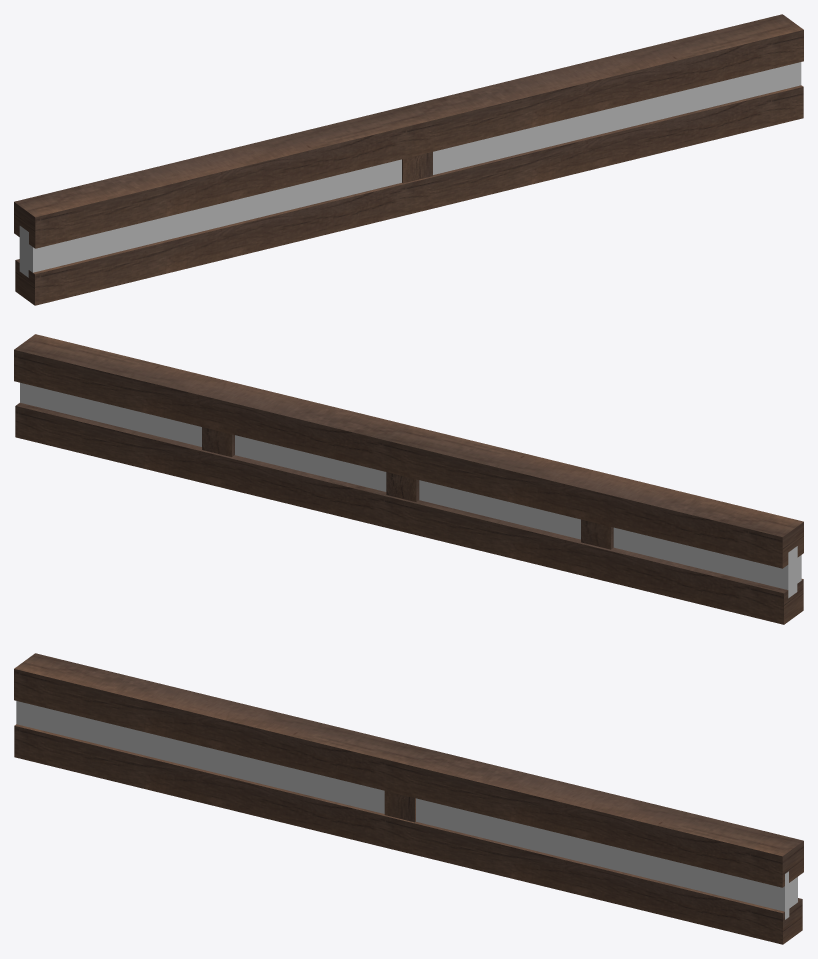
File: yane_frame_2t_1f_6.fbx
The picture shows the model from 3 angles, top to bottom: view 1: azimuth 30°, elevation 25°; view 2: azimuth 150°, elevation 25°; view 3: azimuth 330°, elevation 25°; orthographic projection.
Parts seen in each view (by area): view 1: yane_frame_2t_1f_6; view 2: yane_frame_2t_1f_6; view 3: yane_frame_2t_1f_6.
Boxes of the visible parts, left/top/right/bottom form: yane_frame_2t_1f_6: left=14, top=14, right=803, bottom=305; yane_frame_2t_1f_6: left=14, top=334, right=803, bottom=624; yane_frame_2t_1f_6: left=14, top=653, right=803, bottom=944.
Bounding box in the file's own units: 440 × 48.53 × 21.21.
